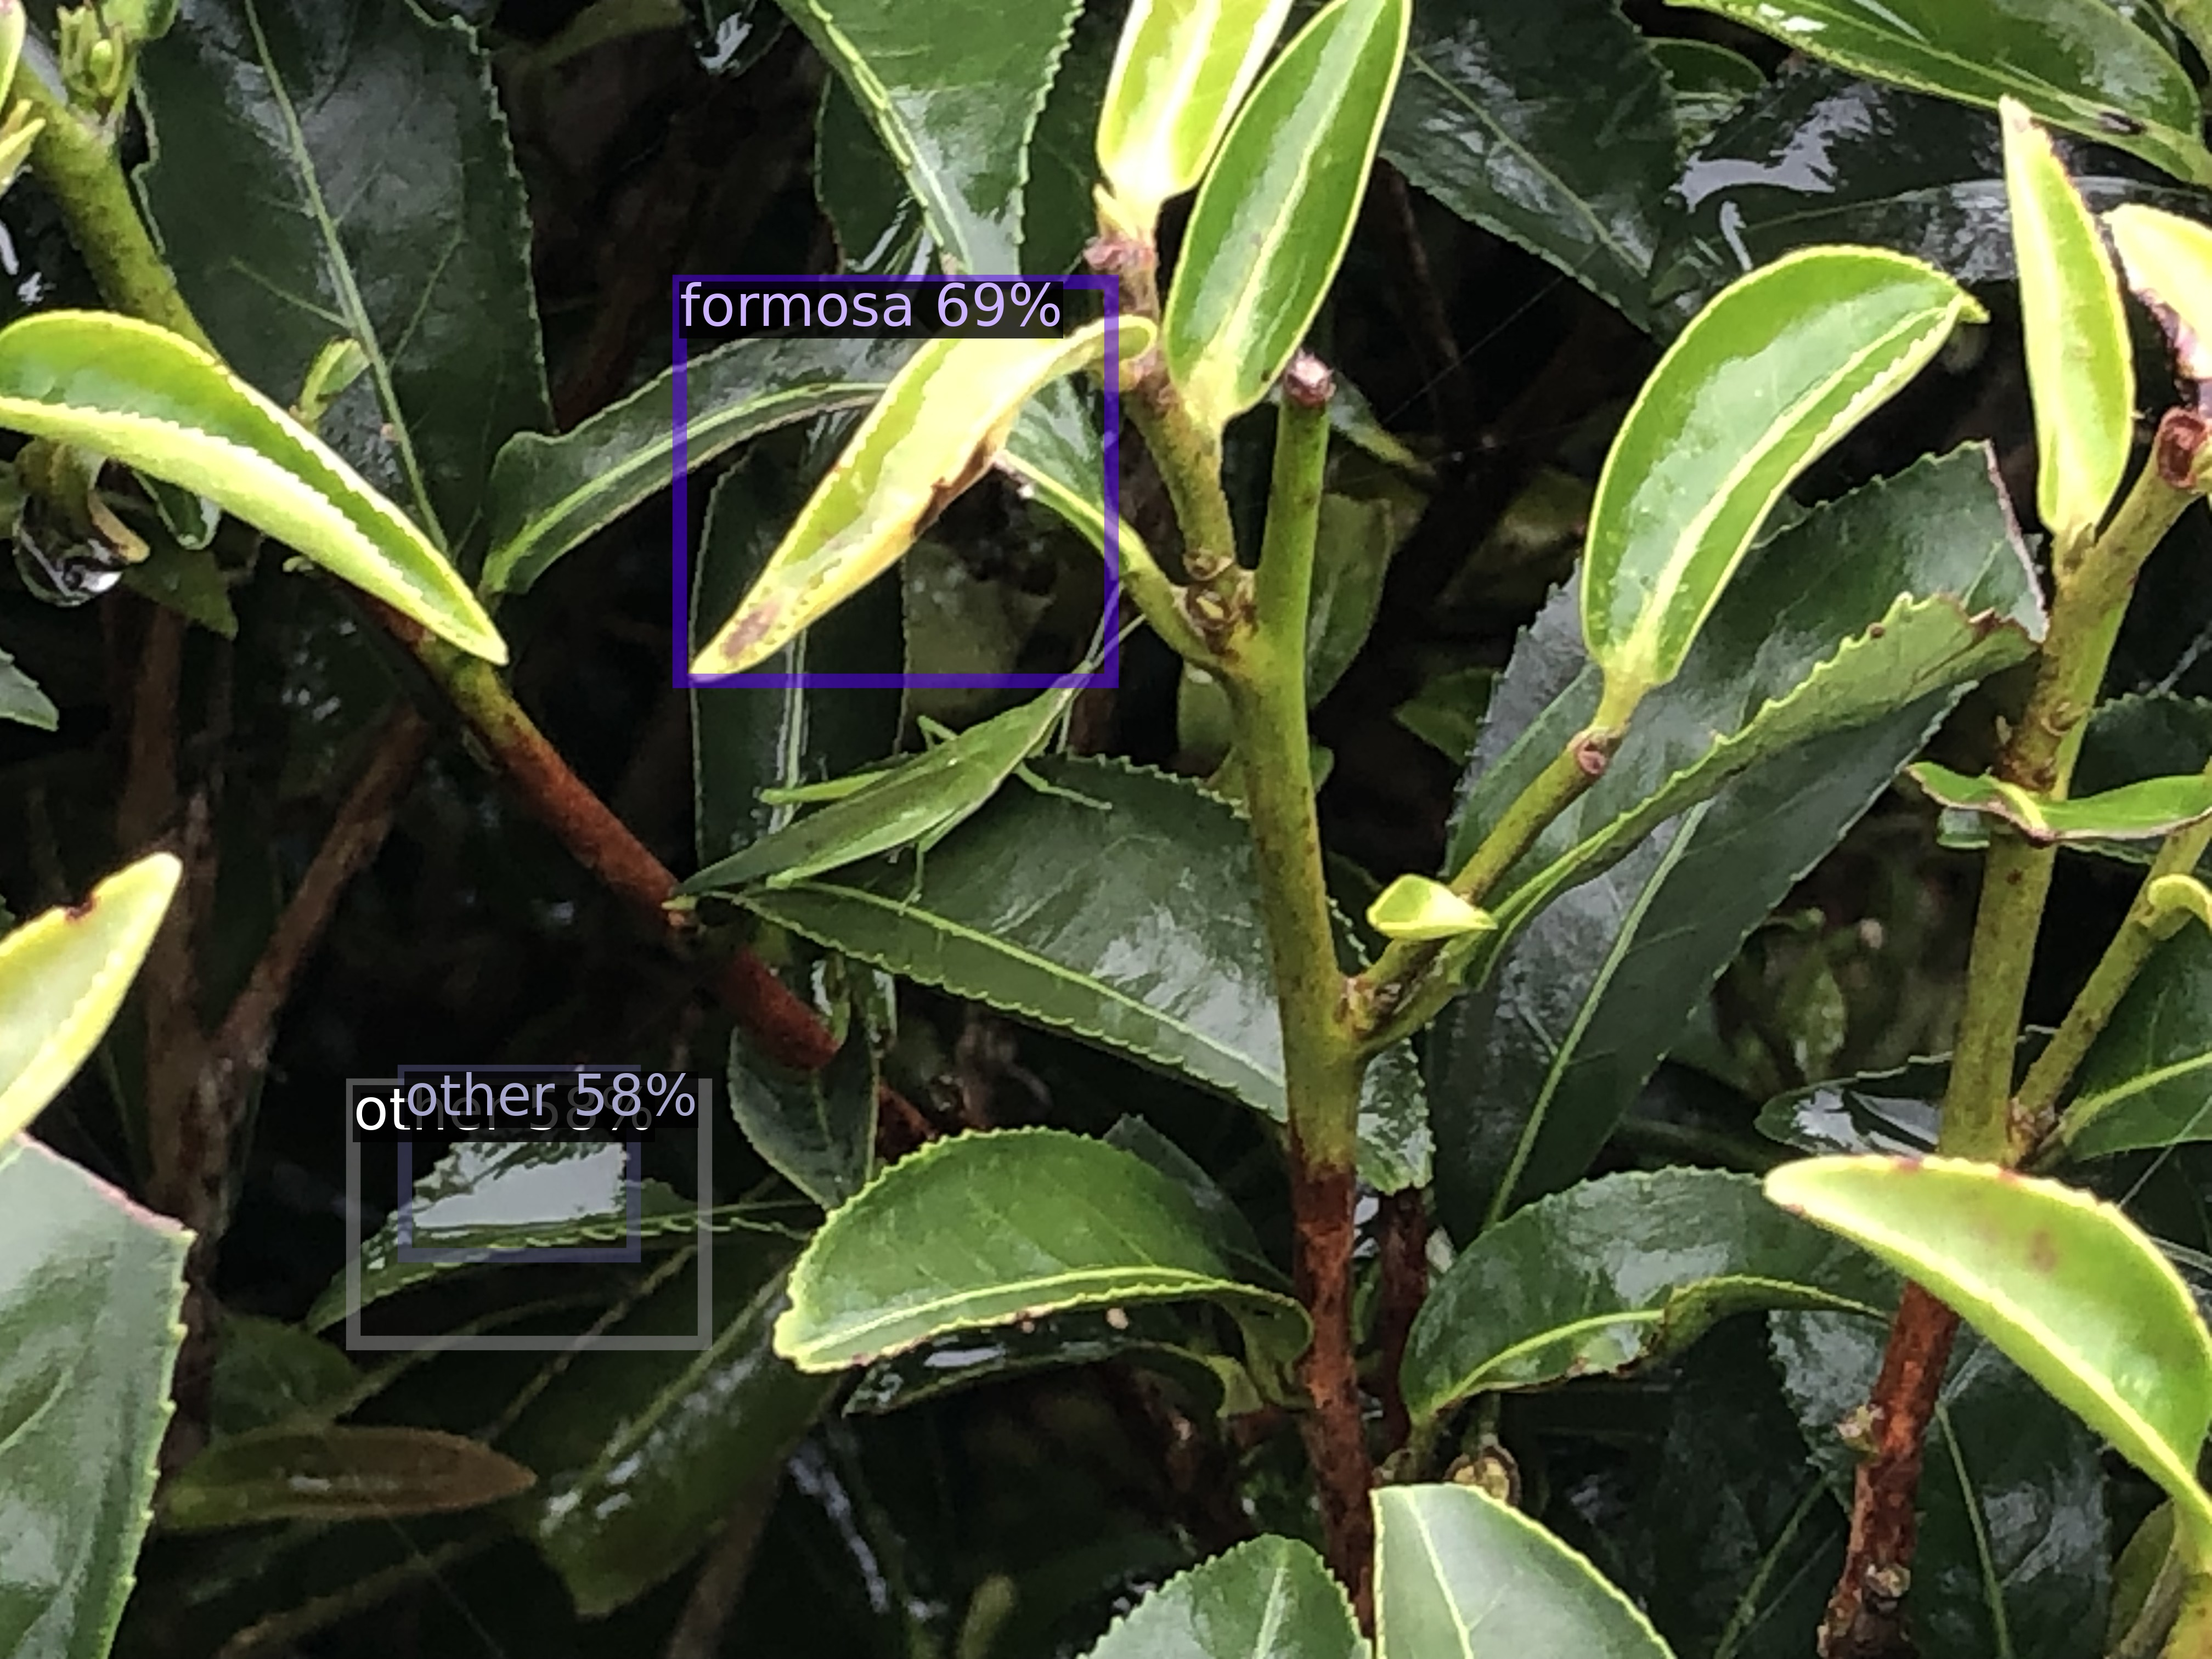formosa: (679, 282, 1111, 681)
other: (354, 1086, 705, 1342), (404, 1072, 632, 1255)
